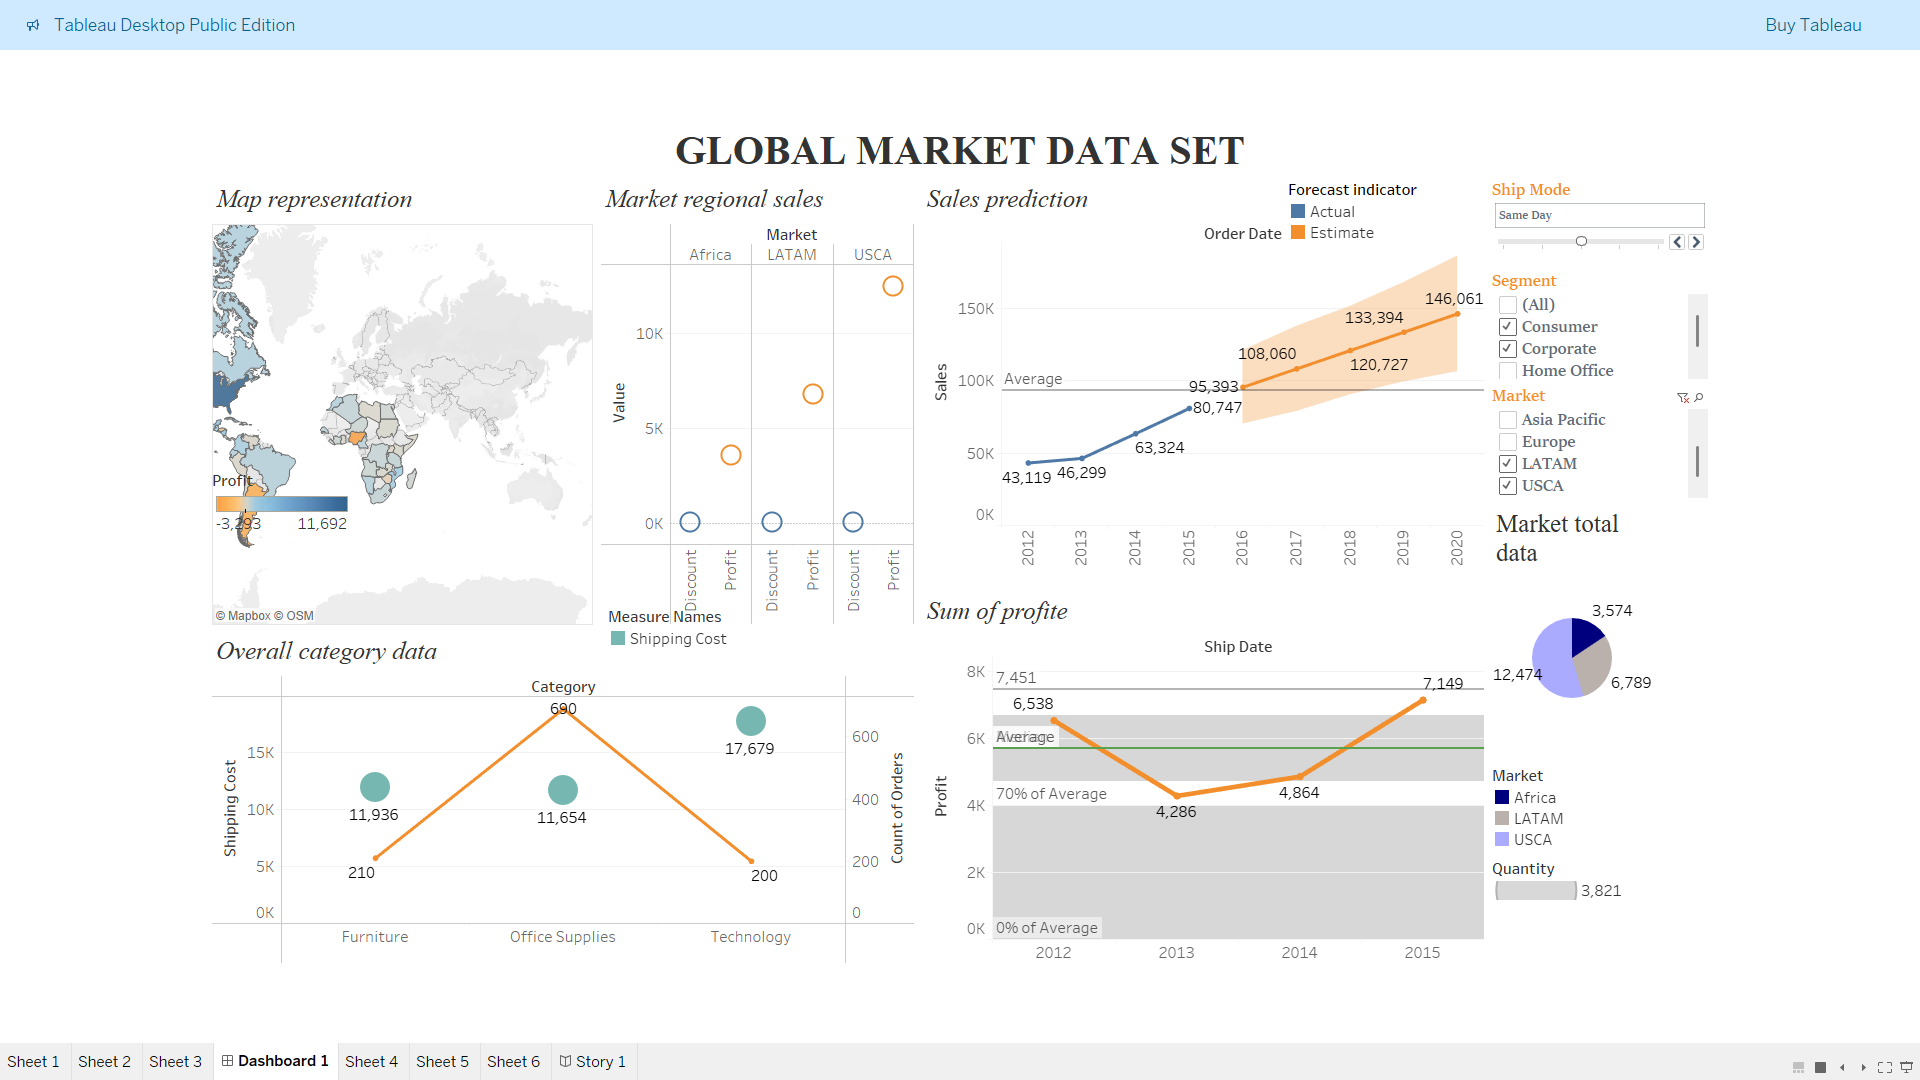

Layout of this report page (visuals, bound fields, positions):
{"tool":"tableau","page":{"name":"Dashboard 1","canvas":[1000,1000],"units":"permille","ordinal":0},"visuals":[{"type":"title","box":[5.3,10,989.5,66.1]},{"type":"legend","title":"Sheet 2","param":"[federated.1nj6qd210zfpyo1dzl5g90oos3fo].[none:Forecast Indicator:nk]","box":[715.8,73.6,88.8,89.8]},{"type":"worksheet","title":"Sheet 3","mark":"Automatic","box":[5.3,76.1,255.6,522.4]},{"type":"worksheet","title":"Sheet 4","mark":"Shape","cols":["Market"],"box":[260.9,76.1,212.2,522.4]},{"type":"worksheet","title":"Sheet 2","mark":"Automatic","rows":["Sales"],"cols":["Order Date"],"box":[473,76.1,374.3,477.6]},{"type":"filter","title":"Sheet 1","param":"[federated.1nj6qd210zfpyo1dzl5g90oos3fo].[none:Ship Mode:nk]","box":[847.4,76.1,147.4,113.5]},{"type":"filter","title":"Sheet 1","param":"[federated.1nj6qd210zfpyo1dzl5g90oos3fo].[none:Segment:nk]","box":[847.4,189.5,147.4,143.4]},{"type":"filter","title":"Sheet 1","param":"[federated.1nj6qd210zfpyo1dzl5g90oos3fo].[none:Market:nk]","box":[847.4,332.9,147.4,148.4]},{"type":"legend","title":"Sheet 3","param":"[federated.1nj6qd210zfpyo1dzl5g90oos3fo].[sum:Profit:qk]","box":[7.9,411.5,92.1,109.7]},{"type":"worksheet","title":"Sheet 6","mark":"Pie","box":[847.4,481.3,147.4,322.9]},{"type":"worksheet","title":"Sheet 1","mark":"Automatic","rows":["Profit"],"cols":["Ship Date"],"box":[473,553.6,374.3,436.4]},{"type":"legend","title":"Sheet 5","param":"[federated.1nj6qd210zfpyo1dzl5g90oos3fo].[:Measure Names]","box":[268.4,569.8,92.1,53.6]},{"type":"worksheet","title":"Sheet 5","mark":"Automatic","rows":["Shipping Cost","Orders_3DD3943F20C242CB870DA2F6CCF628AD"],"cols":["Category"],"box":[5.3,598.5,467.8,391.5]},{"type":"legend","title":"Sheet 6","param":"[federated.1nj6qd210zfpyo1dzl5g90oos3fo].[none:Market:nk]","box":[847.4,804.3,147.4,122.2]},{"type":"legend","title":"Sheet 6","param":"[federated.1nj6qd210zfpyo1dzl5g90oos3fo].[sum:Quantity:qk]","box":[847.4,926.4,147.4,63.6]}]}

Visuals, with their boxes on the dashboard's canvas, which has no fixed pixel size, in thousandths of its width and height (x1, y1, x2, y2). These are canvas units, not pixel positions in the 1920x1080 screenshot, which may show the page scaled, cropped or inside an application window:
title: [x1=5, y1=10, x2=995, y2=76]
"Sheet 2" legend: [x1=716, y1=74, x2=805, y2=163]
"Sheet 3" worksheet: [x1=5, y1=76, x2=261, y2=598]
"Sheet 4" worksheet (Shape marks): [x1=261, y1=76, x2=473, y2=598]
"Sheet 2" worksheet: [x1=473, y1=76, x2=847, y2=554]
"Sheet 1" filter: [x1=847, y1=76, x2=995, y2=190]
"Sheet 1" filter: [x1=847, y1=190, x2=995, y2=333]
"Sheet 1" filter: [x1=847, y1=333, x2=995, y2=481]
"Sheet 3" legend: [x1=8, y1=412, x2=100, y2=521]
"Sheet 6" worksheet (Pie marks): [x1=847, y1=481, x2=995, y2=804]
"Sheet 1" worksheet: [x1=473, y1=554, x2=847, y2=990]
"Sheet 5" legend: [x1=268, y1=570, x2=360, y2=623]
"Sheet 5" worksheet: [x1=5, y1=598, x2=473, y2=990]
"Sheet 6" legend: [x1=847, y1=804, x2=995, y2=926]
"Sheet 6" legend: [x1=847, y1=926, x2=995, y2=990]
